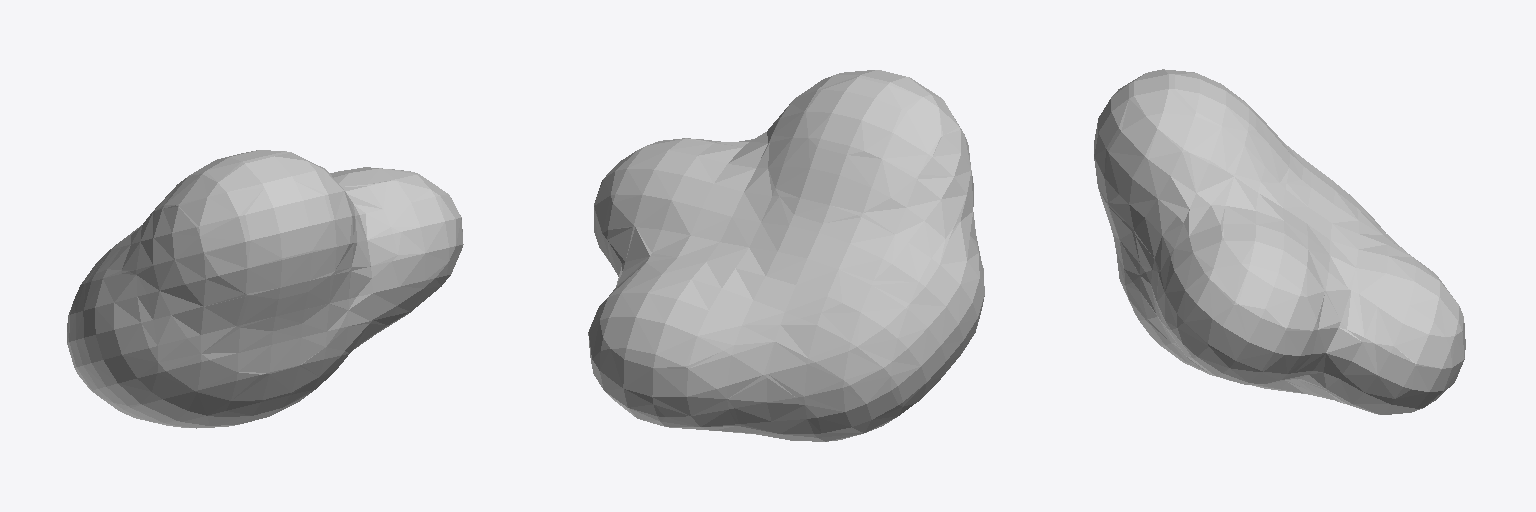
The picture shows the model from 3 angles: view 1: azimuth 30°, elevation 25°; view 2: azimuth 150°, elevation 25°; view 3: azimuth 270°, elevation 25°; orthographic projection.
Visible parts, largest first — view 1: hull; view 2: hull; view 3: hull.
Part boxes in pixels (left/top/right/bottom): hull: left=67, top=150, right=463, bottom=428; hull: left=588, top=70, right=984, bottom=441; hull: left=1094, top=69, right=1465, bottom=414.
Size of the model in its own units: 152 by 119 by 134.